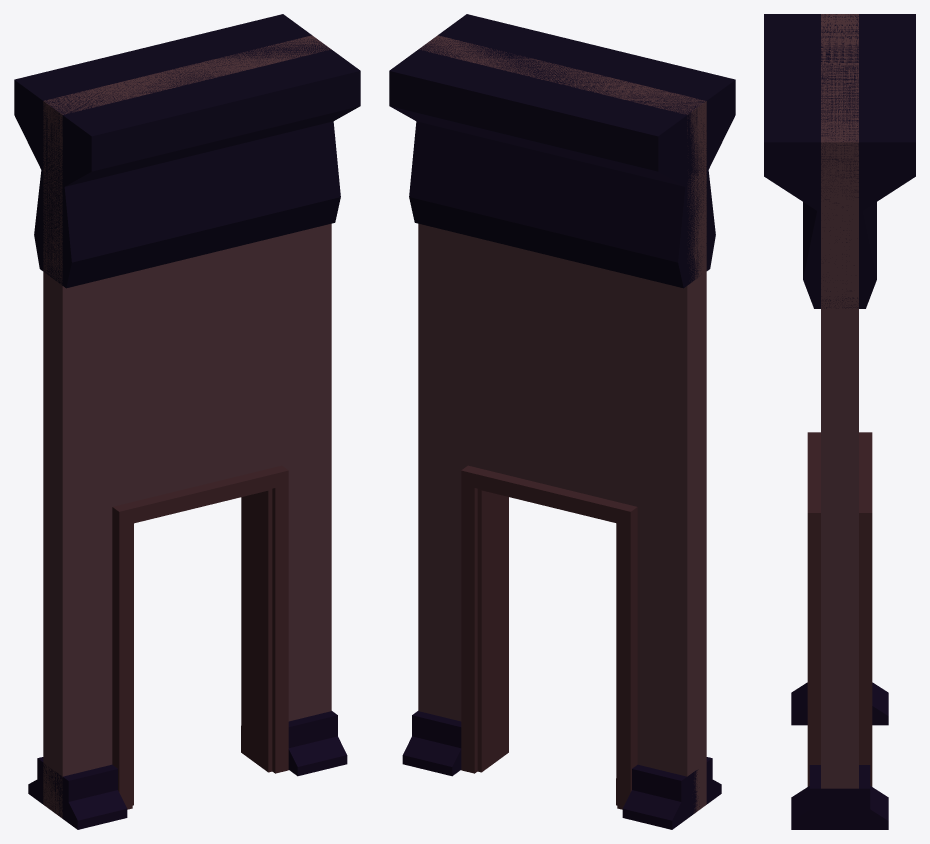
The model's file is Tür.fbx.
3 views of the same model, side by side, from view 1: azimuth 30°, elevation 25°; view 2: azimuth 150°, elevation 25°; view 3: azimuth 270°, elevation 25° (orthographic). The views are drawn at different scales.
Visible parts, largest first — view 1: Cube.002, Cube.023, Cube.021; view 2: Cube.002, Cube.023, Cube.021; view 3: Cube.002, Cube.023, Cube.021.
Boxes of the visible parts, <box> form: Cube.002: <box>43,35,331,818</box>; Cube.023: <box>14,14,360,288</box>; Cube.021: <box>28,711,347,829</box>; Cube.002: <box>418,35,706,812</box>; Cube.023: <box>389,14,735,288</box>; Cube.021: <box>402,711,721,829</box>; Cube.002: <box>807,14,872,788</box>; Cube.023: <box>764,14,915,308</box>; Cube.021: <box>791,682,888,829</box>.
Bounding box in the file's own units: 401 × 1000 × 200.
